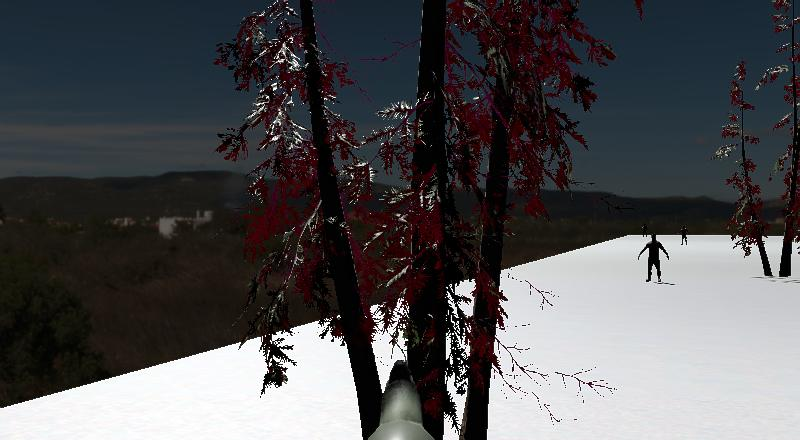Human: (632, 228, 677, 291), (674, 219, 694, 251)
